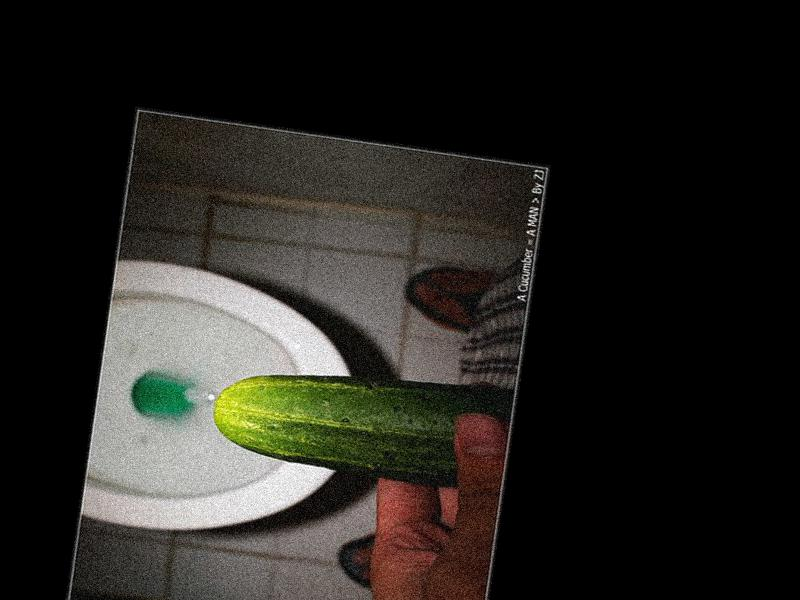Cucumber: (208, 349, 519, 494)
